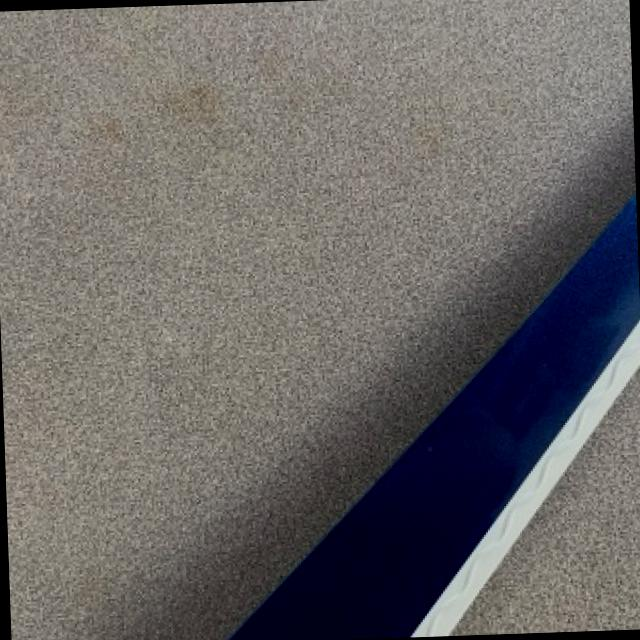healthy: (0, 0, 633, 640), (220, 0, 633, 556)
